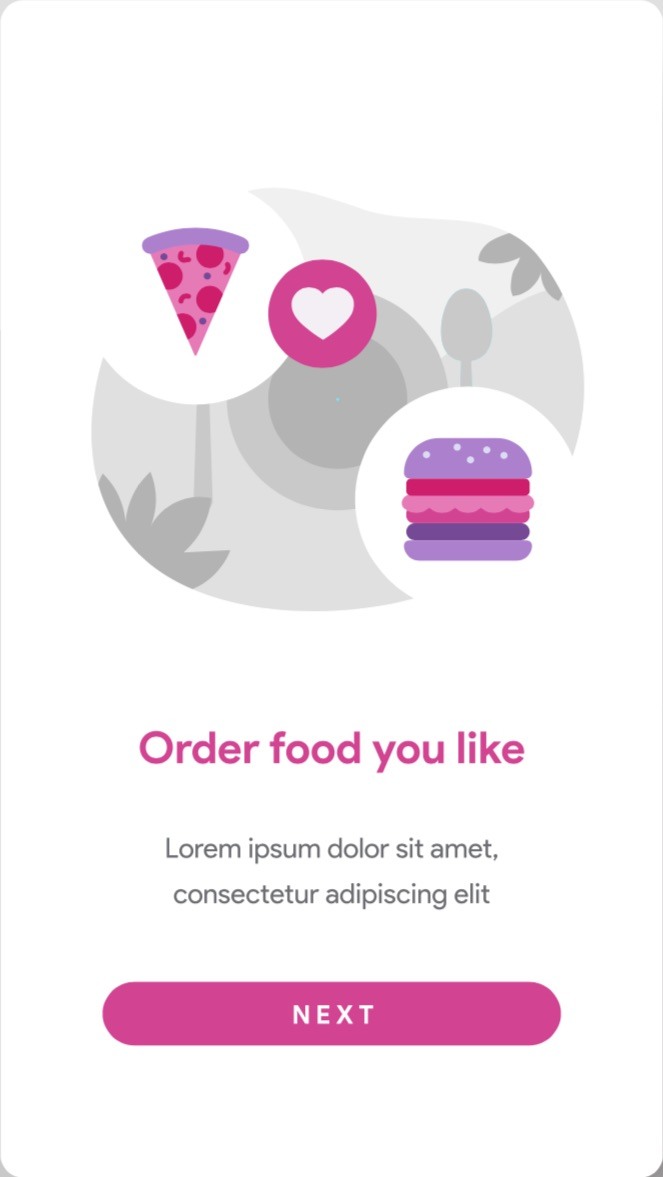Image: (91, 187, 586, 612)
Text: (166, 837, 498, 911), (139, 731, 525, 774)
TextButton: (103, 981, 562, 1046)
